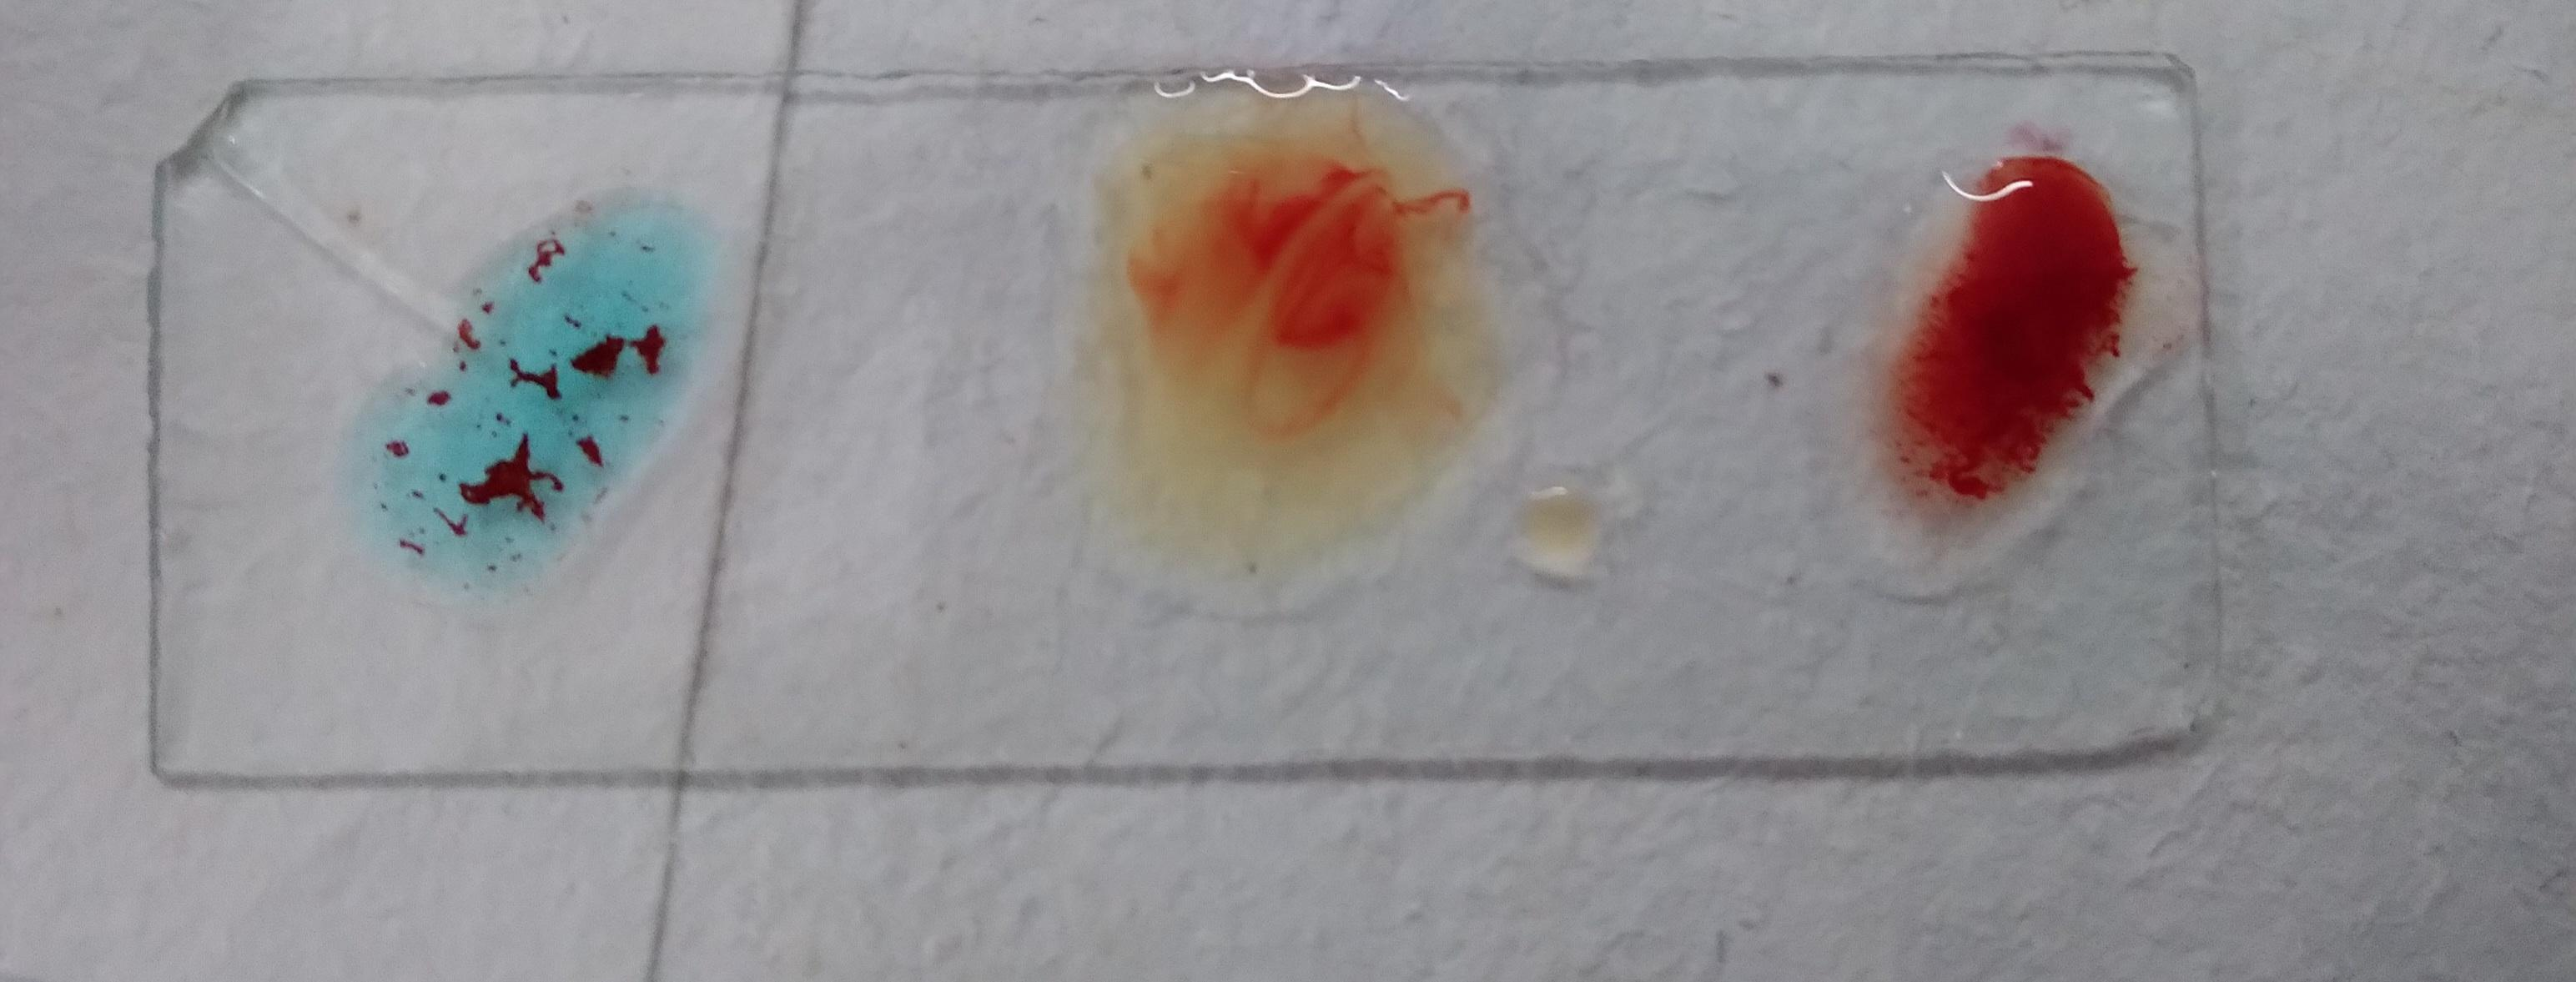A: (348, 200, 720, 588)
D: (1842, 148, 2172, 563)
